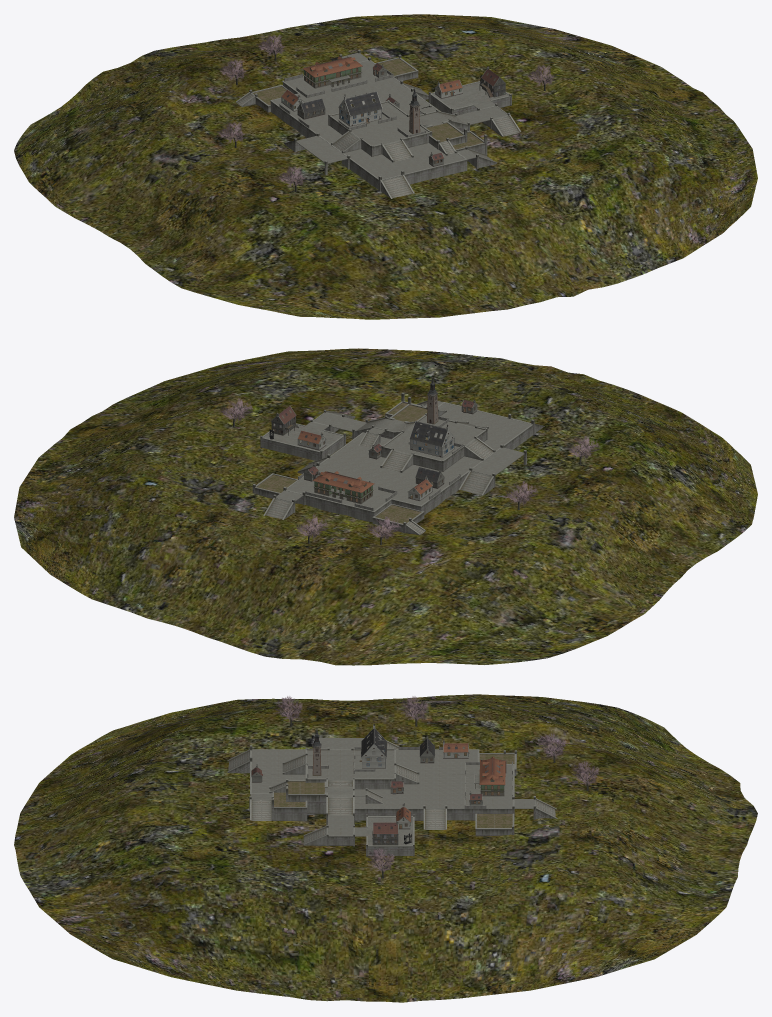
The model's file is ff_clock_legit.glb.
3 views of the same model, one above another, from view 1: azimuth 30°, elevation 25°; view 2: azimuth 150°, elevation 25°; view 3: azimuth 270°, elevation 25° (orthographic). The views are drawn at different scales.
Parts seen in each view (by area): view 1: Plane_0, Base_02_LOD0_0_1, mansion_LOD0_2_9, mansion_LOD0_3_10, Zone_A_House_Huge_A_LOD0_1_30; view 2: Plane_0, Base_02_LOD0_0_1, mansion_LOD0_2_9, mansion_LOD0_3_10, Zone_A_House_Huge_A_LOD0_1_30; view 3: Plane_0, Base_02_LOD0_0_1, mansion_LOD0_2_9.
Boxes of the visible parts, box(x1,y1,x2,y2) form: Plane_0: box(14, 14, 757, 319); Base_02_LOD0_0_1: box(236, 49, 521, 198); mansion_LOD0_2_9: box(302, 56, 362, 86); mansion_LOD0_3_10: box(303, 56, 362, 88); Zone_A_House_Huge_A_LOD0_1_30: box(345, 91, 381, 115); Plane_0: box(14, 348, 757, 665); Base_02_LOD0_0_1: box(252, 392, 544, 535); mansion_LOD0_2_9: box(312, 471, 374, 500); mansion_LOD0_3_10: box(313, 474, 373, 504); Zone_A_House_Huge_A_LOD0_1_30: box(409, 421, 447, 446); Plane_0: box(14, 694, 757, 1002); Base_02_LOD0_0_1: box(227, 735, 557, 856); mansion_LOD0_2_9: box(475, 757, 505, 788).
Size of the model in its own units: 2721 by 478 by 2787.
41 materials, 40 textured.
